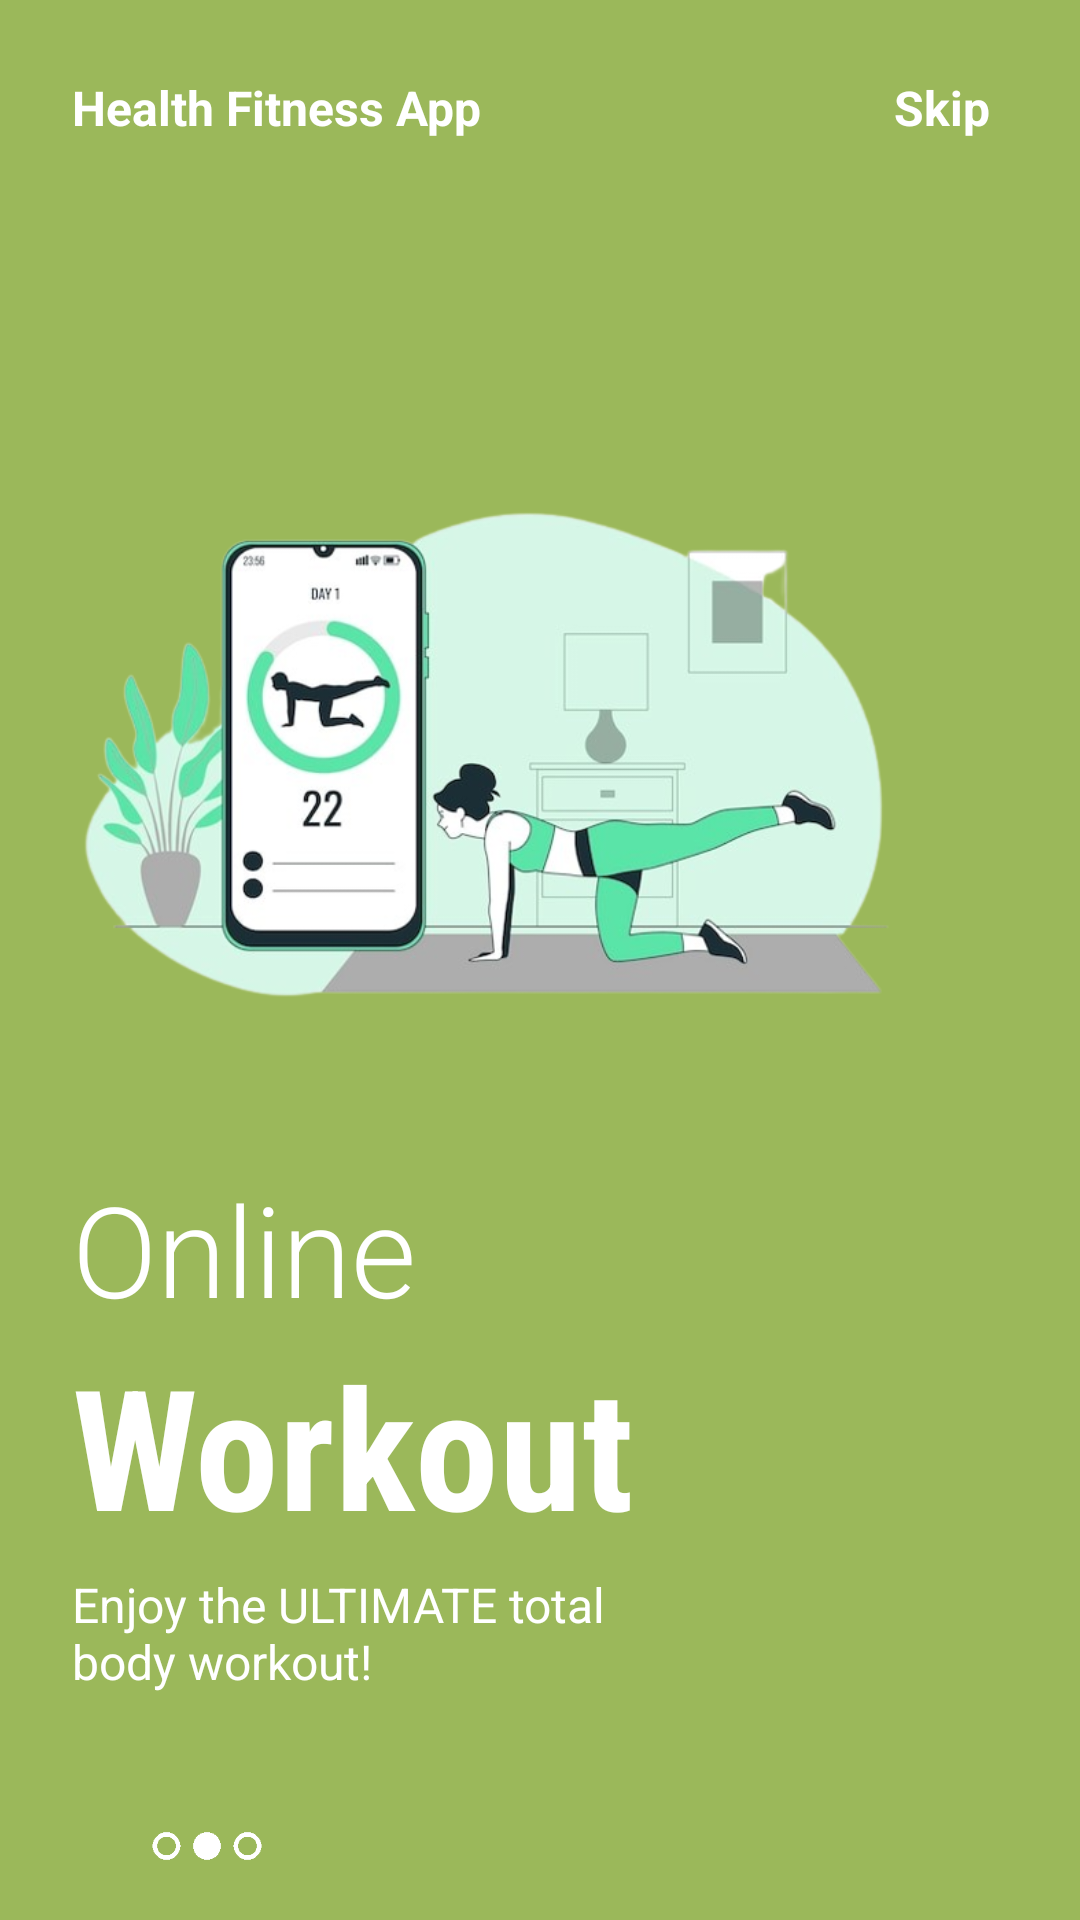

Named icons in this screenshot (1080px x 1920px) and their centers, (x=x, y=y):
tab: (x=207, y=1846)
